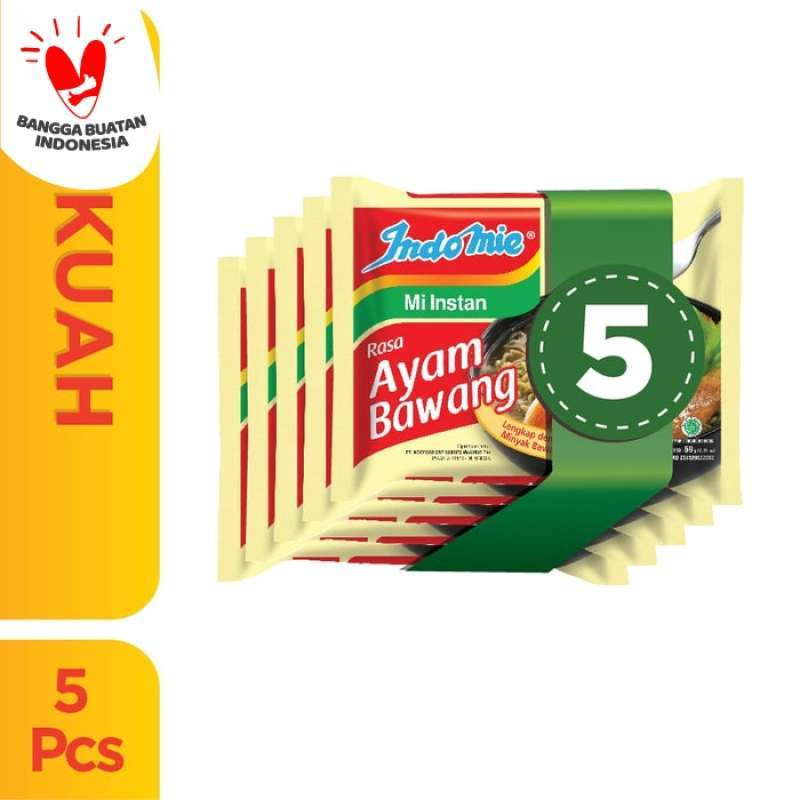indomie ayam bawang: (332, 136, 547, 521)
